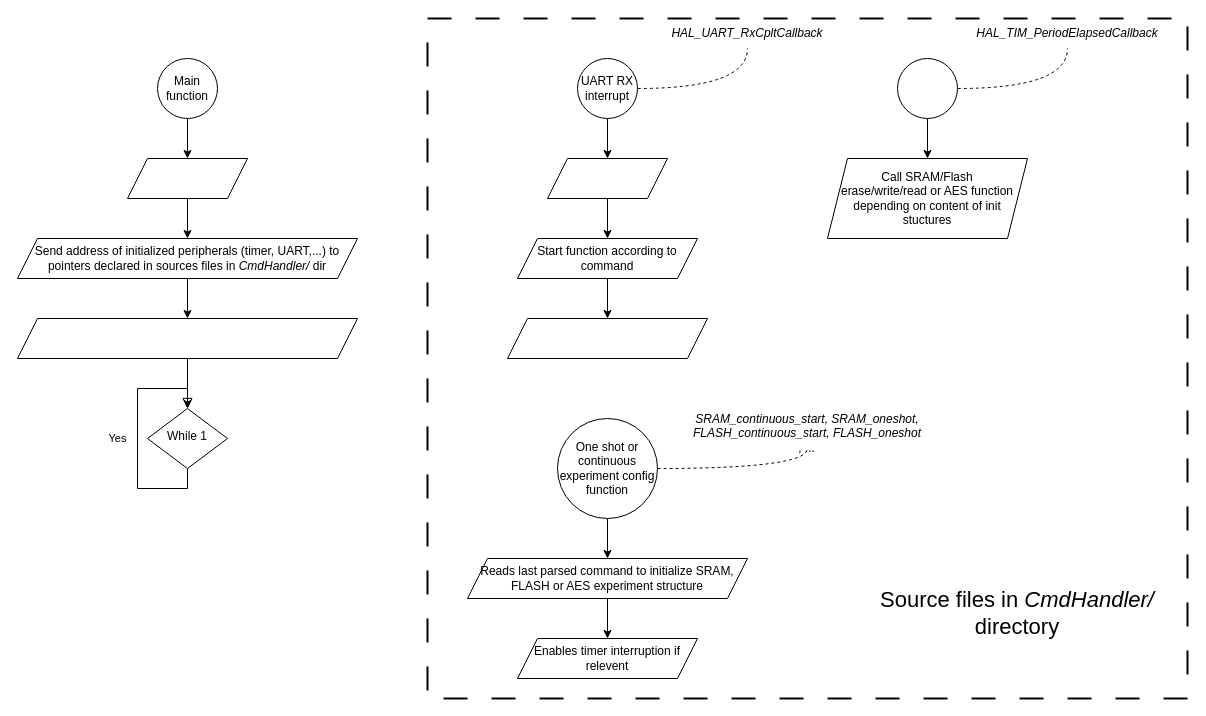
The diagram is 1206 pixels wide and 716 high, and some of its shapes have lost their labels. Each missing label, with the centre of its shape:
"Basic chip init" goes at [187,178].
"Parse command" goes at [607,178].
"Reschedule UART RX interrupt" goes at [607,338].
"Timer overflow interrupt" goes at [927,88].
"UART RX interrupt waits for 64 bytes command" goes at [187,338].
